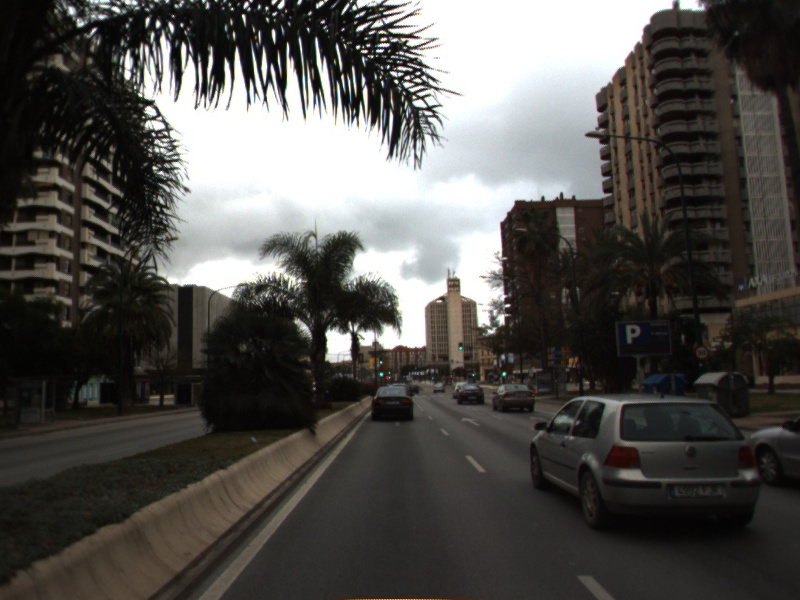STRAIGHT: (458, 415, 483, 428)
